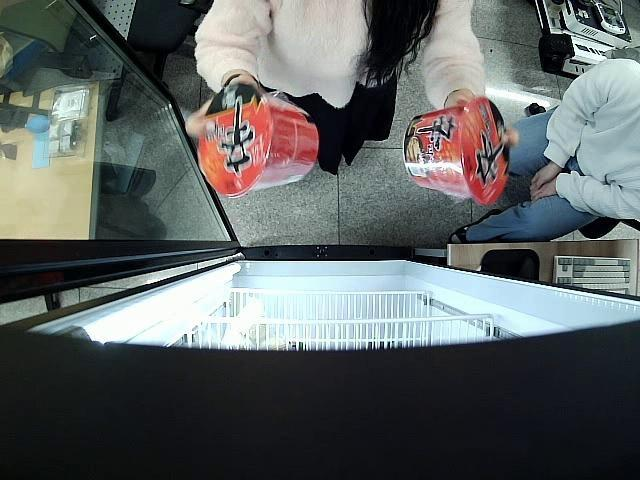01_ShinRamen_L: (199, 75, 318, 198), (405, 98, 510, 204)
